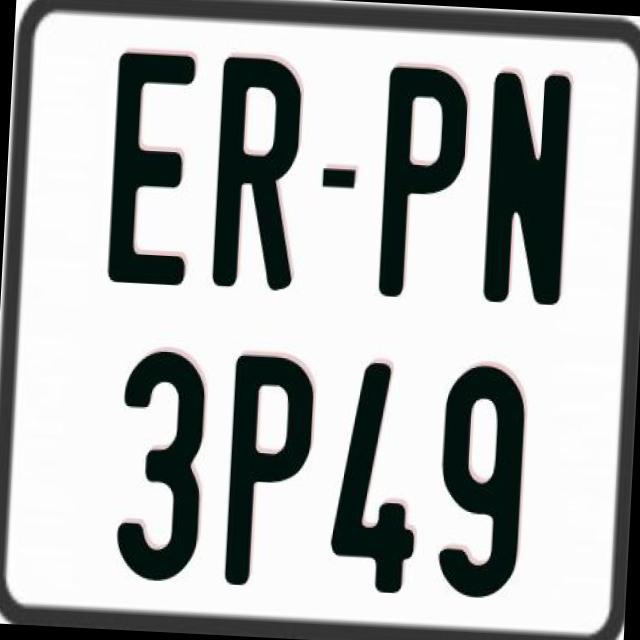3: (112, 350, 206, 588)
4: (324, 359, 420, 602)
9: (435, 360, 530, 596)
E: (104, 50, 199, 292)
N: (481, 72, 577, 310)
P: (220, 350, 316, 594), (374, 61, 472, 296)
R: (212, 56, 307, 292)
